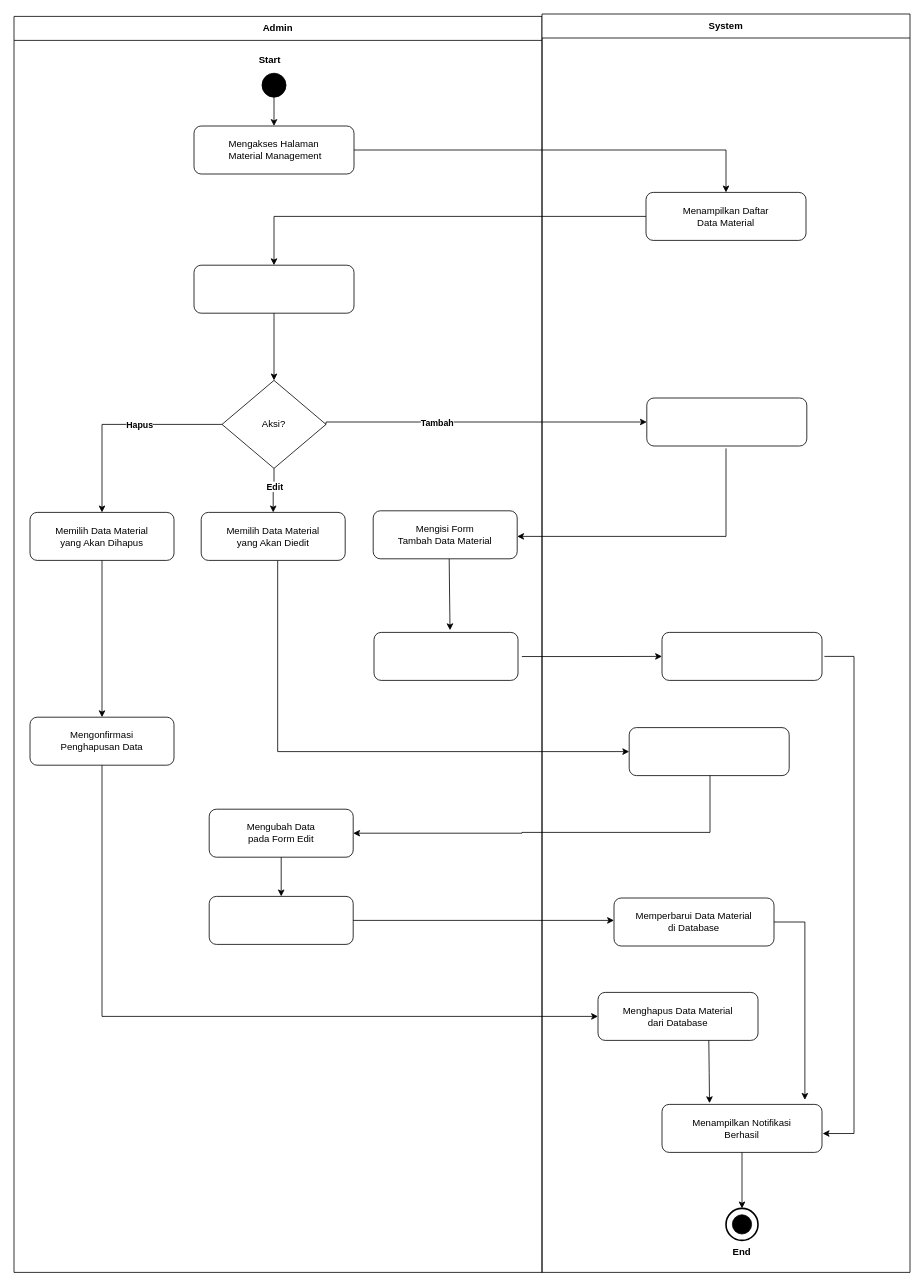
This 924x1286 diagram has some shape labels left out. The shapes that lost their labels are listed below. From the top down, each one's centre as x and y in pixels, then its label:
At pixel 273 288: "Memilih Aksi".
At pixel 726 421: "Menampilkan Form Tambah Data Material".
At pixel 445 656: "Submit Tambah Data Material".
At pixel 741 656: "Menyimpan Data Material Baru ke Database".
At pixel 708 751: "Menampilkan Form Edit Data Material".
At pixel 280 920: "Submit Edit Data Material".
